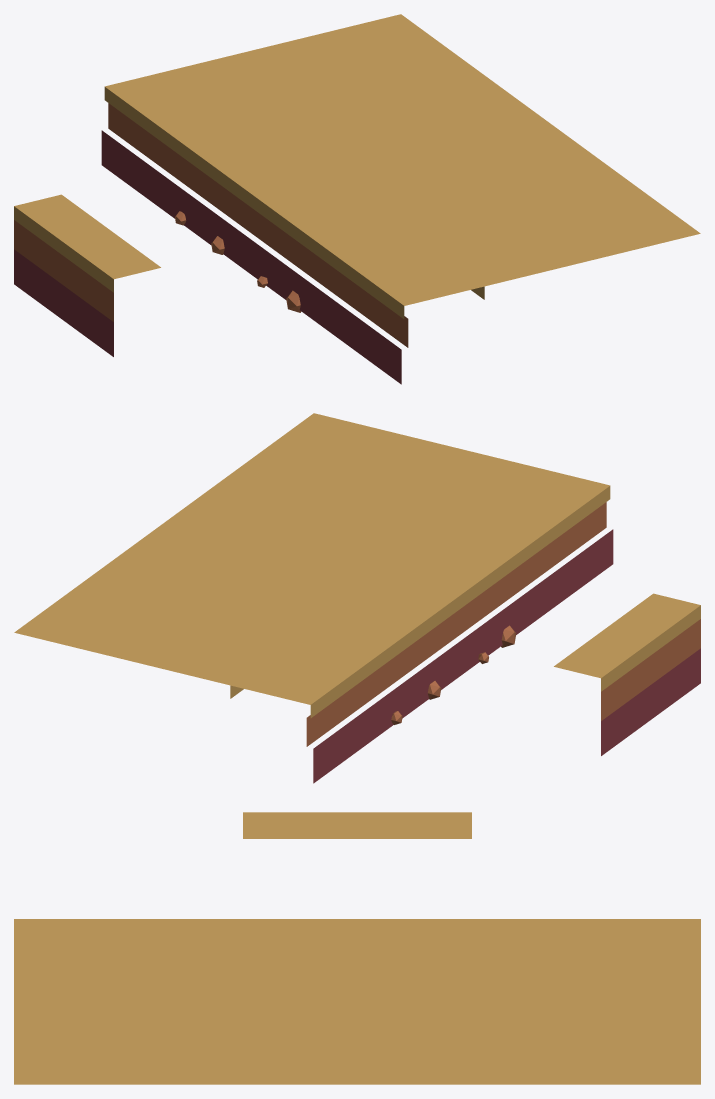
The model's file is cliffs.glb.
3 renders of one model, top to bottom at view 1: azimuth 30°, elevation 25°; view 2: azimuth 150°, elevation 25°; view 3: azimuth 270°, elevation 25°, orthographic. The views are drawn at different scales.
Parts seen in each view (by area): view 1: Plateau, Near0, Near2, Near1, Far0, Far2, Far1; view 2: Plateau, Near0, Near2, Near1, Far0, Far2, Far1; view 3: Plateau, Near0, Far0.
Boxes of the visible parts, x1,y1,x2,y2 form: Plateau: (185,14,700,299); Near0: (104,67,484,318); Near2: (101,130,401,384); Near1: (108,103,408,347); Far0: (14,194,160,292); Far2: (14,249,113,356); Far1: (14,220,113,321); Plateau: (14,413,529,698); Near0: (230,466,610,717); Near2: (313,529,613,783); Near1: (306,502,606,746); Far0: (554,593,700,691); Far2: (601,648,700,755); Far1: (601,619,700,720); Plateau: (14,963,700,1084); Near0: (14,919,700,963); Far0: (243,812,471,838).
Bounding box in the file's own units: 45 × 7.25 × 48.
